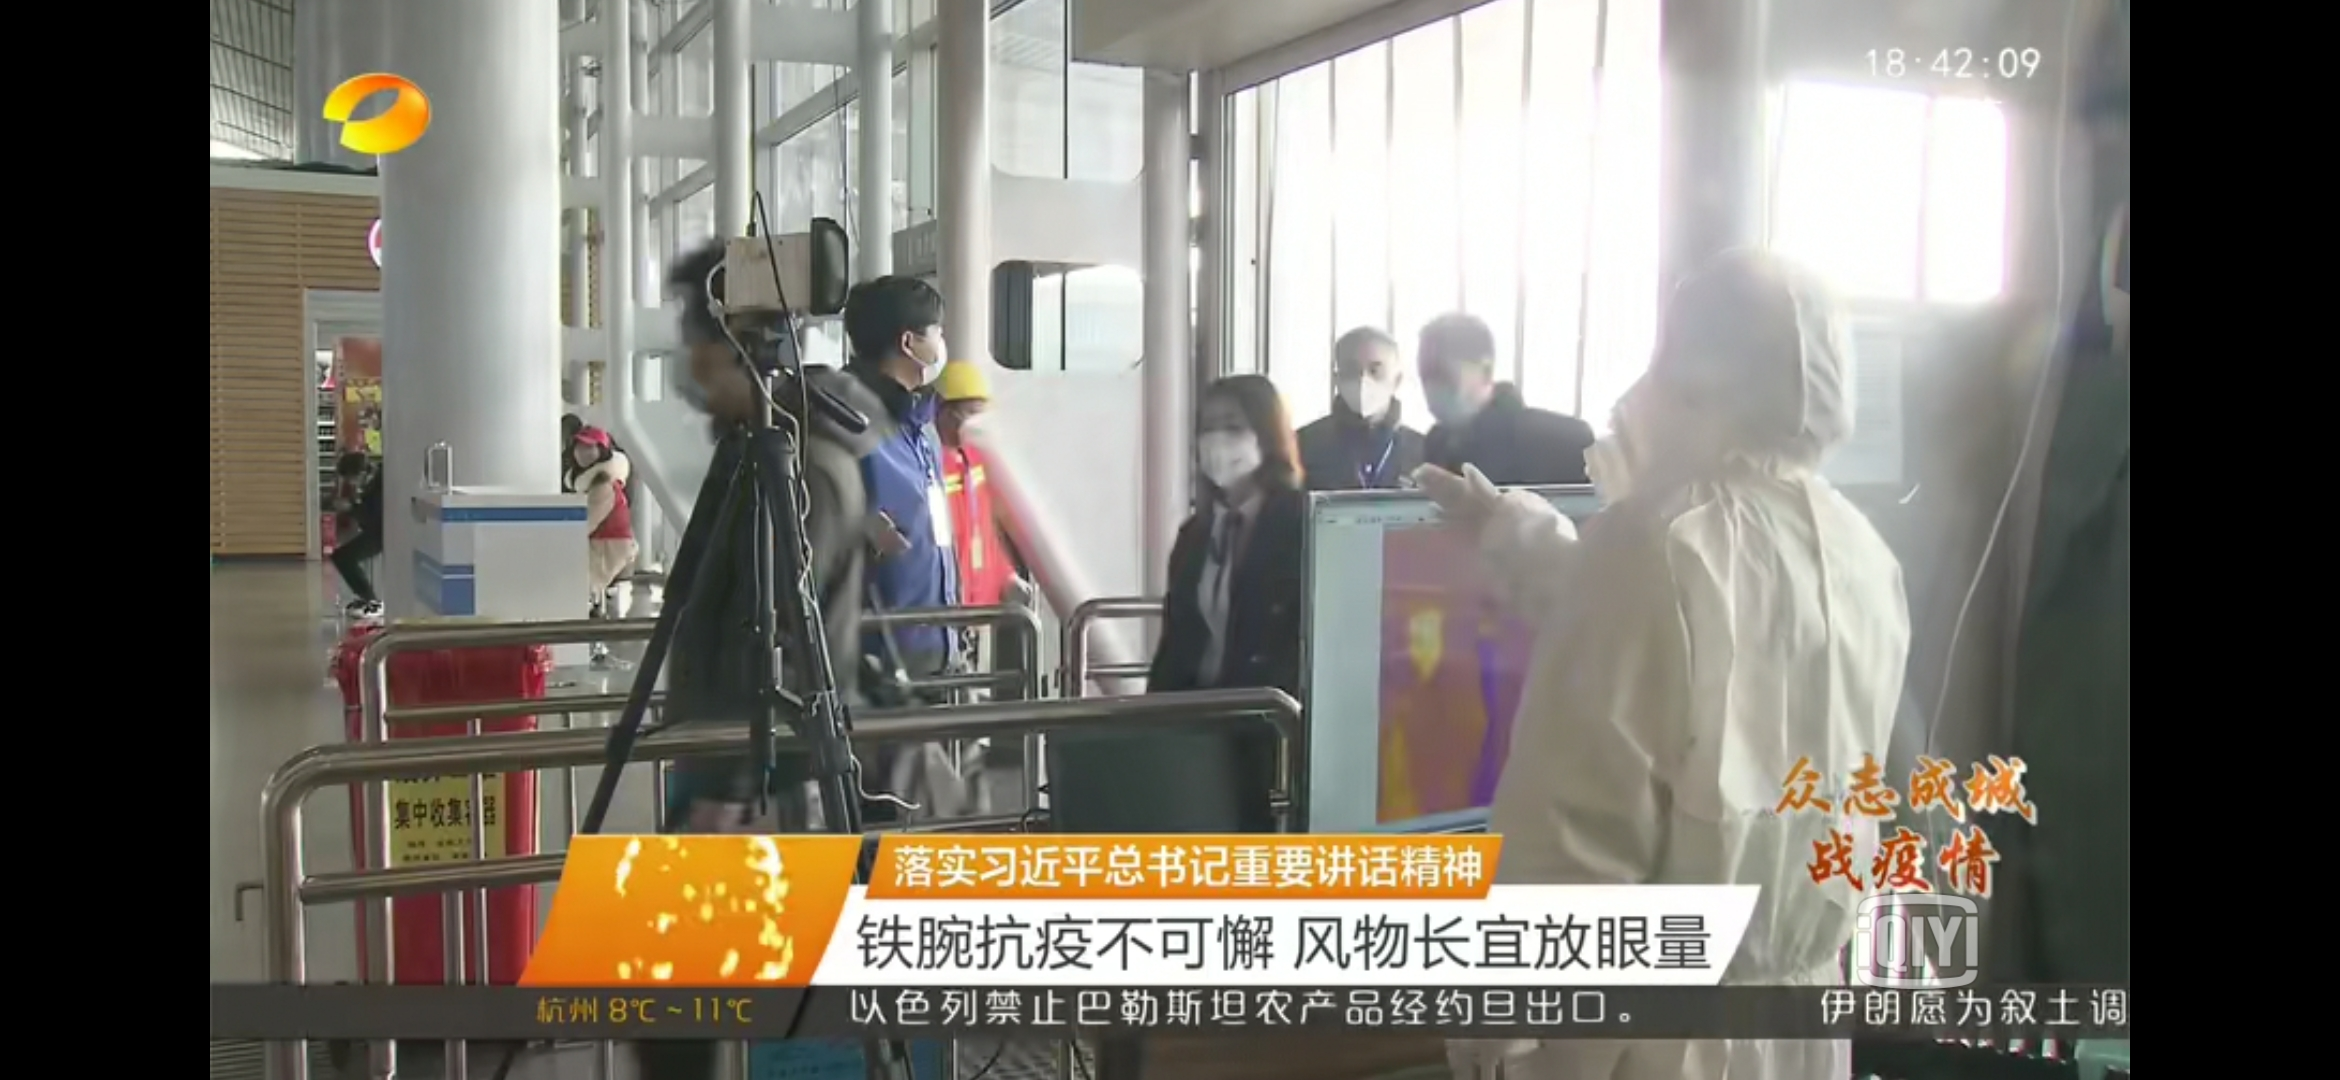correctlyWear: (663, 300, 763, 418), (1198, 409, 1266, 497), (1415, 357, 1495, 422), (1333, 354, 1401, 421), (894, 318, 952, 389), (945, 389, 994, 448), (575, 442, 600, 467)
